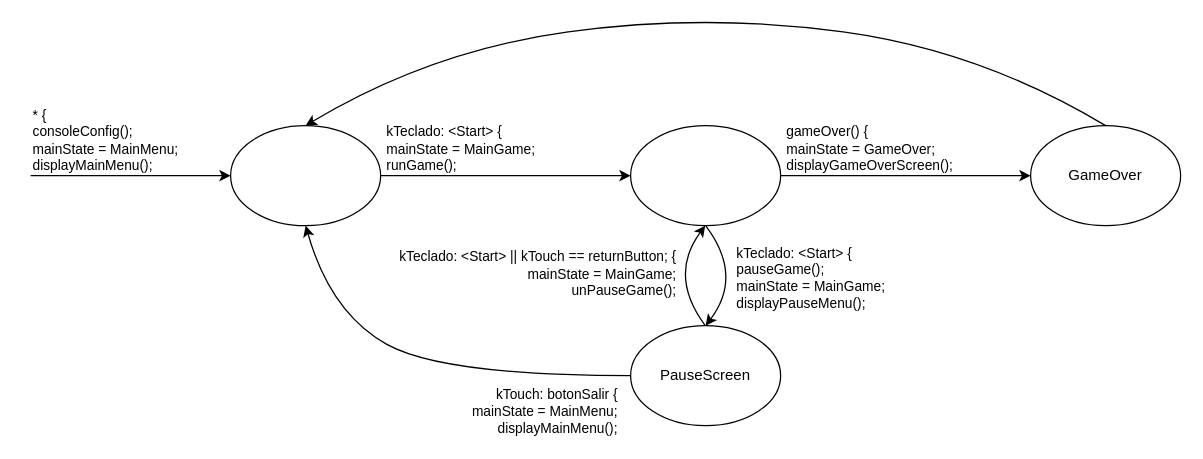
Image size: 1203x459. Some labels were removed from this diagram. Here are the shapes that lost their labels. From the top down, the box of each, then its label:
(229, 124, 381, 226): MainMenu
(629, 124, 781, 226): MainGame
